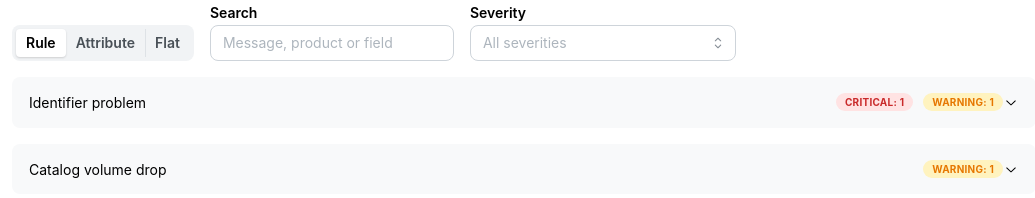
Test case: FindingsExplorer › groups by attribute and buckets feed-level findings
Step 1. Click the radio button labelled "Attribute" → {"x": 105, "y": 43}, box x1=76 y1=34 x2=135 y2=51
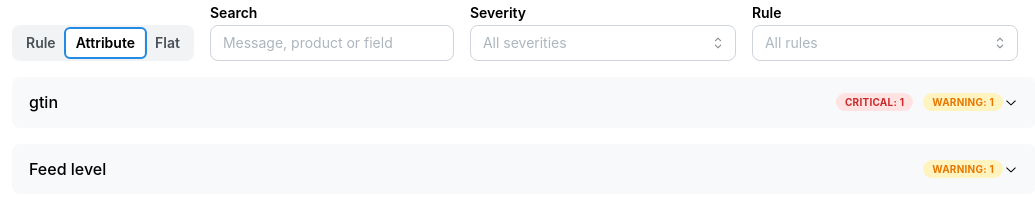
Check: the text "Feed level" is shown, box x1=29 y1=157 x2=106 y2=181
